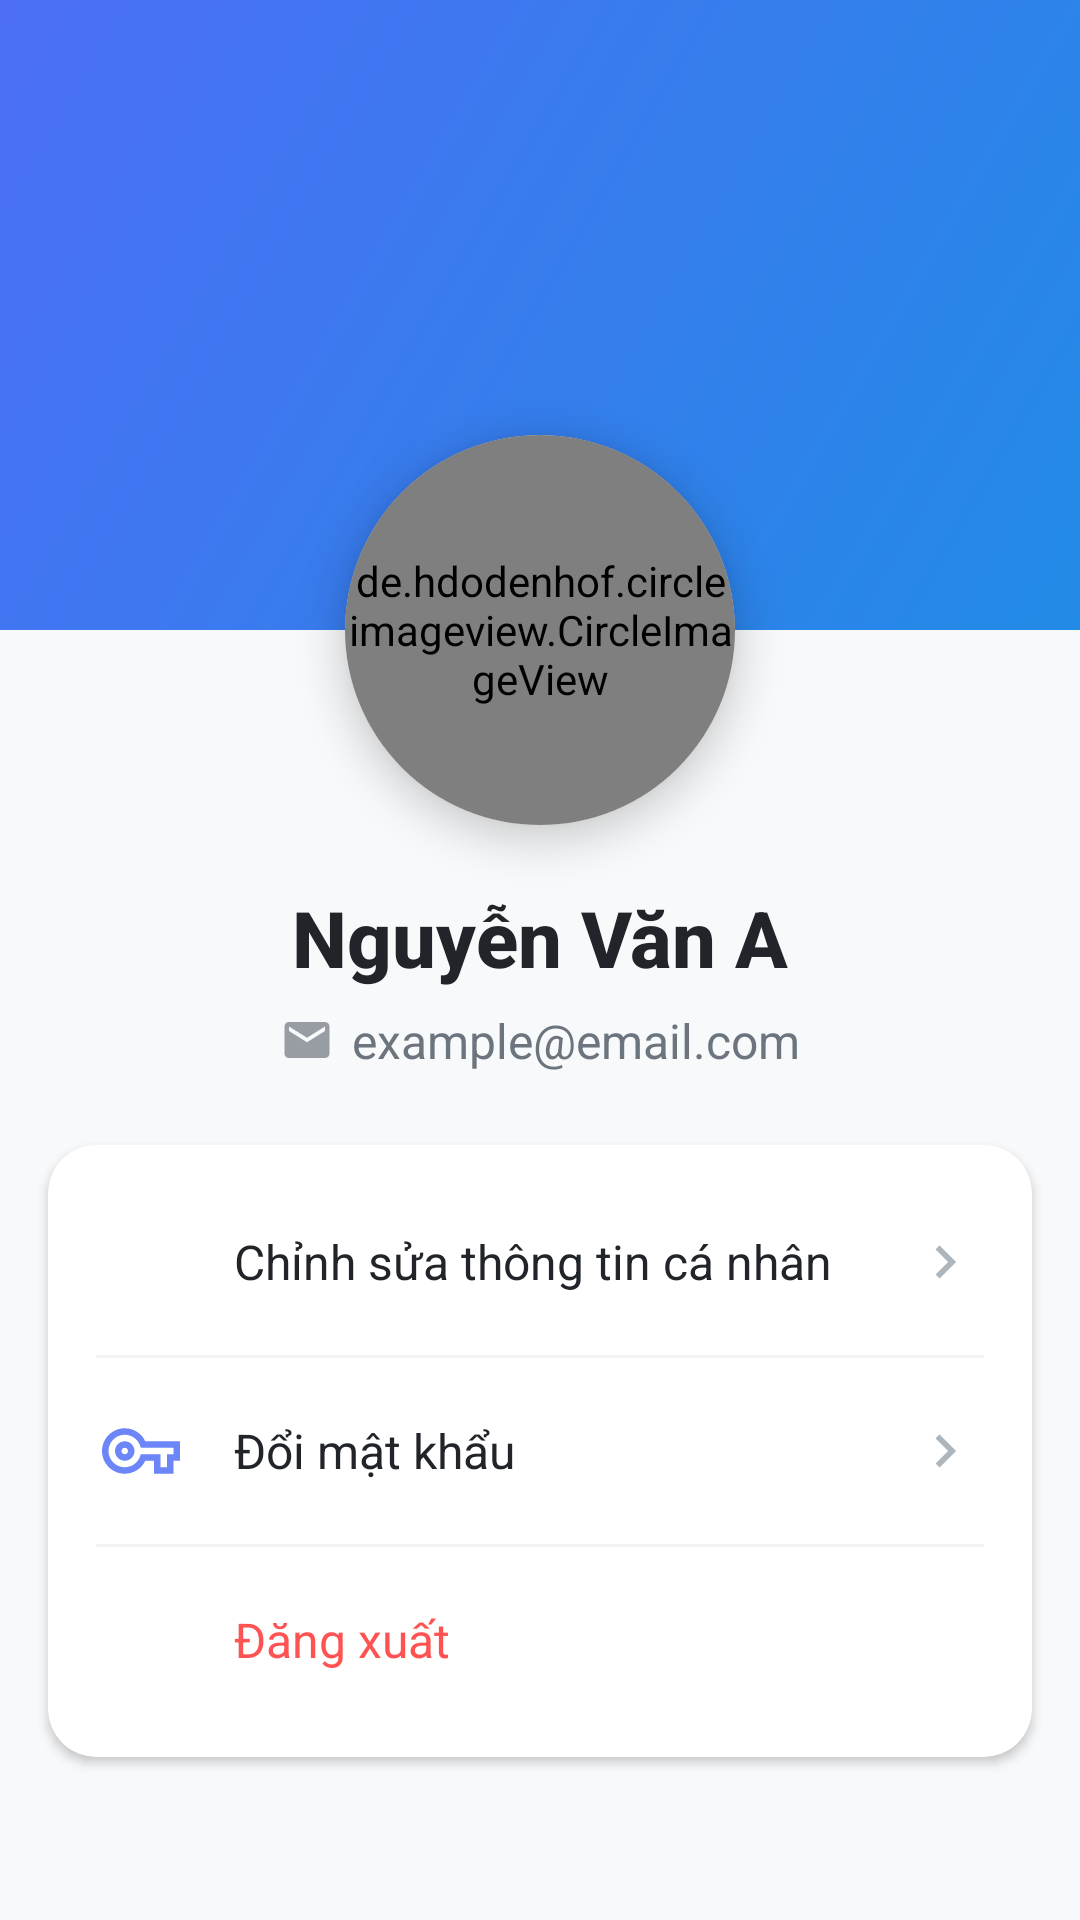

Icon bounding boxes for this 1080 × 1920 phone screenshot, format (x1, y1, x2, y2):
arrow right: (936, 1245, 956, 1278), (936, 1434, 956, 1467)
key: (102, 1428, 180, 1474)
